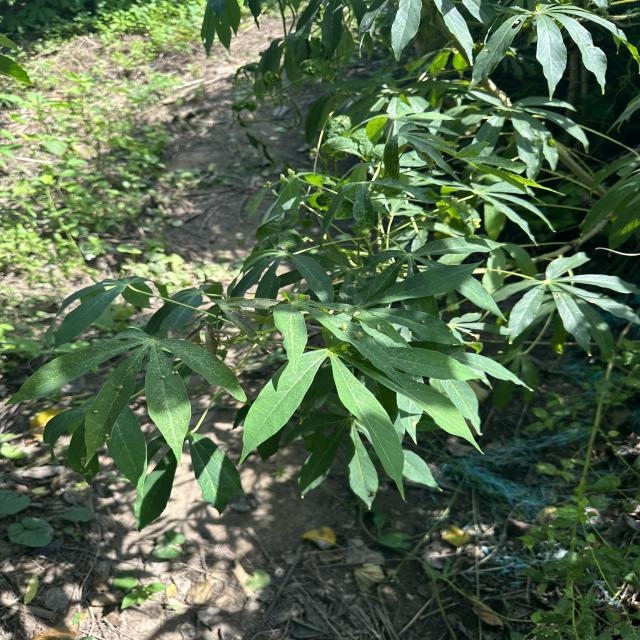Mosca: (338, 311, 369, 355), (319, 304, 348, 341), (148, 363, 183, 384), (106, 374, 127, 398), (100, 427, 122, 449), (408, 311, 431, 332), (84, 399, 100, 413)
